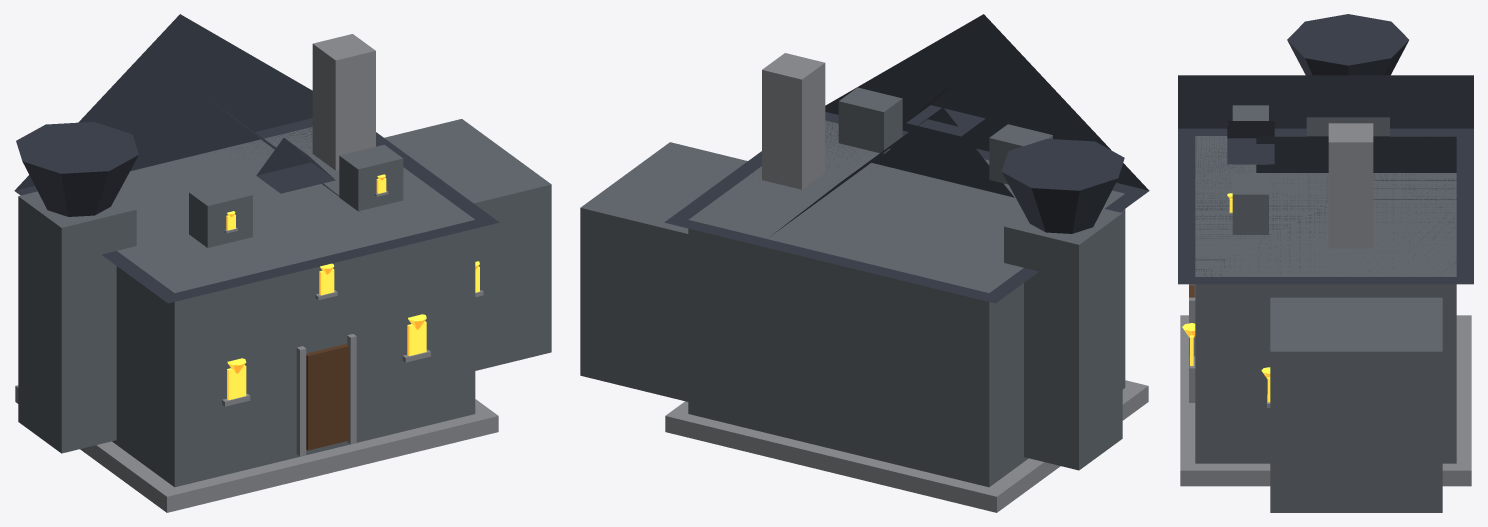
Rendered from house_lv4.glb.
The picture shows the model from 3 angles, left to right: view 1: azimuth 30°, elevation 25°; view 2: azimuth 150°, elevation 25°; view 3: azimuth 270°, elevation 25°; orthographic projection. The views are drawn at different scales.
Visible parts, largest first — view 1: Walls, LeftTower, Roof, RightWing, Foundation, LeftTowerRoof, Chimney, RightWingRoof, Door, Dormer1.9500000000000002, Dormer-1.9500000000000002, DormerRoof-1.9500000000000002 (+2 smaller); view 2: Walls, RightWing, LeftTower, Roof, Foundation, LeftTowerRoof, Chimney, RightWingRoof, Dormer1.9500000000000002, DormerRoof-1.9500000000000002, Dormer-1.9500000000000002; view 3: Walls, RightWing, Roof, Foundation, LeftTowerRoof, Chimney, RightWingRoof, Dormer1.9500000000000002, DormerRoof-1.9500000000000002, LeftTower, Dormer-1.9500000000000002, DoorR.
Part boxes in pixels (x1=…): Walls: x1=112, y1=127, x2=475, y2=487; LeftTower: x1=18, y1=191, x2=136, y2=453; Roof: x1=14, y1=14, x2=499, y2=303; RightWing: x1=384, y1=119, x2=551, y2=370; Foundation: x1=15, y1=385, x2=498, y2=512; LeftTowerRoof: x1=16, y1=122, x2=138, y2=216; Chimney: x1=312, y1=34, x2=375, y2=170; RightWingRoof: x1=130, y1=84, x2=359, y2=211; Door: x1=306, y1=344, x2=348, y2=450; Dormer1.9500000000000002: x1=339, y1=144, x2=403, y2=211; Dormer-1.9500000000000002: x1=189, y1=181, x2=252, y2=247; DormerRoof-1.9500000000000002: x1=256, y1=138, x2=335, y2=193; Walls: x1=688, y1=120, x2=1125, y2=487; RightWing: x1=580, y1=142, x2=747, y2=401; LeftTower: x1=1004, y1=208, x2=1122, y2=470; Roof: x1=664, y1=14, x2=1149, y2=303; Foundation: x1=665, y1=380, x2=1148, y2=512; LeftTowerRoof: x1=1001, y1=138, x2=1124, y2=233; Chimney: x1=762, y1=53, x2=825, y2=189; RightWingRoof: x1=770, y1=107, x2=1014, y2=236; Dormer1.9500000000000002: x1=838, y1=87, x2=902, y2=153; DormerRoof-1.9500000000000002: x1=906, y1=80, x2=985, y2=136; Dormer-1.9500000000000002: x1=989, y1=124, x2=1052, y2=184; Walls: x1=1195, y1=136, x2=1456, y2=463; RightWing: x1=1270, y1=297, x2=1442, y2=512; Roof: x1=1178, y1=75, x2=1473, y2=284; Foundation: x1=1180, y1=315, x2=1471, y2=486; LeftTowerRoof: x1=1287, y1=14, x2=1408, y2=75; Chimney: x1=1328, y1=123, x2=1373, y2=248; RightWingRoof: x1=1256, y1=136, x2=1456, y2=172; Dormer1.9500000000000002: x1=1232, y1=173, x2=1268, y2=234; DormerRoof-1.9500000000000002: x1=1227, y1=121, x2=1274, y2=164; LeftTower: x1=1306, y1=117, x2=1389, y2=136; Dormer-1.9500000000000002: x1=1232, y1=105, x2=1268, y2=164; DoorR: x1=1189, y1=297, x2=1195, y2=402.
Size of the model in its own units: 12.67 by 8.59 by 6.91.
